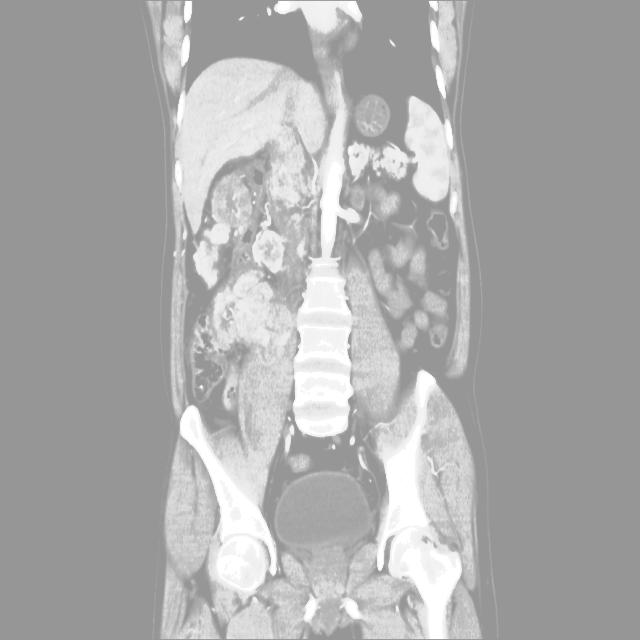TUMOR: (155, 224, 495, 469)
